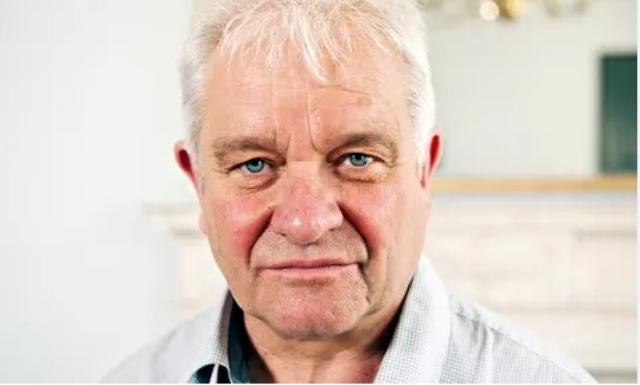forehead: (331, 81, 367, 99), (299, 92, 315, 130)
frown_line: (304, 130, 318, 154), (280, 132, 294, 156)
gummy_smile: (341, 208, 373, 252), (246, 213, 268, 257)
sad_smile: (360, 266, 374, 306)
